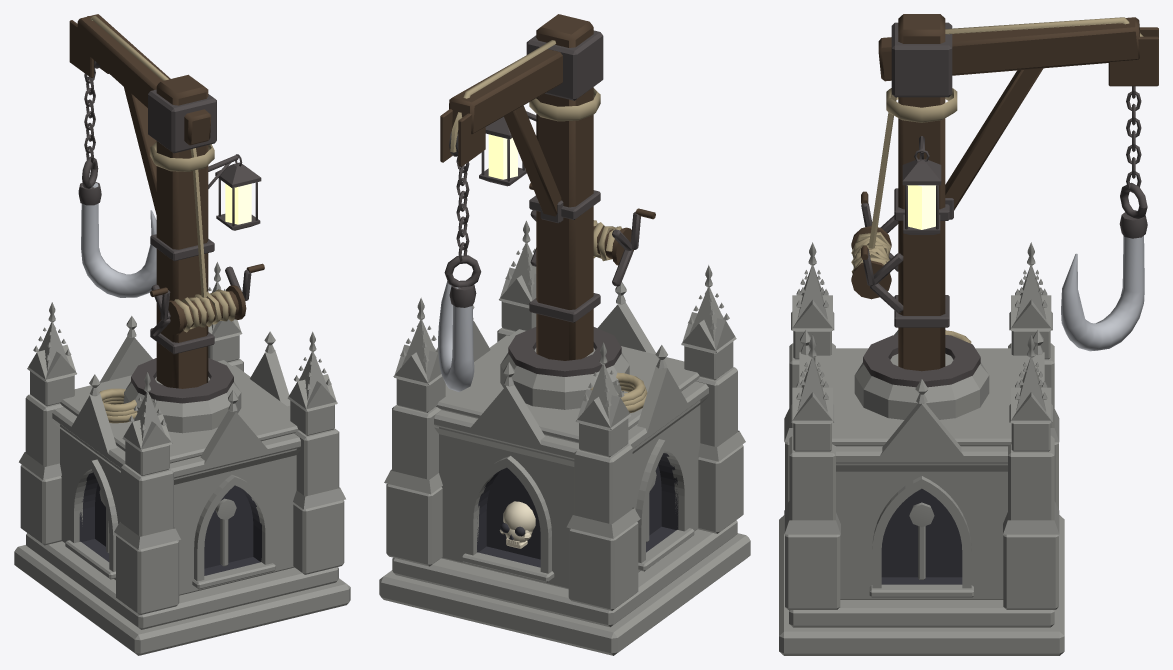
File: tower_hook_1.glb
3 views of the same model, side by side, from view 1: azimuth 30°, elevation 25°; view 2: azimuth 150°, elevation 25°; view 3: azimuth 270°, elevation 25° (orthographic). The views are drawn at different scales.
Visible parts, largest first — view 1: tower, turret, hook; view 2: tower, turret, hook; view 3: tower, turret, hook.
Part boxes in pixels (x1,y1,x2,y2): tower: (14,262,350,655); turret: (69,14,264,388); hook: (78,68,156,297); tower: (379,220,750,655); turret: (440,14,655,360); hook: (438,156,481,391); tower: (779,242,1064,655); turret: (851,14,1158,371); hook: (1061,86,1147,351).
Bounding box in the file's own units: 1.7 × 3.8 × 2.26.
